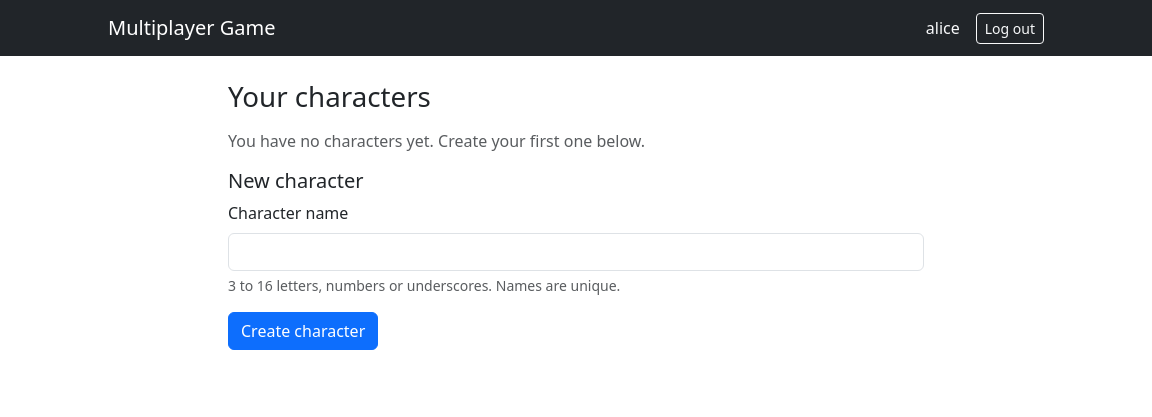
a new character appears in the list without loading the list again
This screenshot has width=1152, height=417.
Type "Aria" into the field labelled "Character name". click: (576, 252)
box: [228, 233, 924, 271]
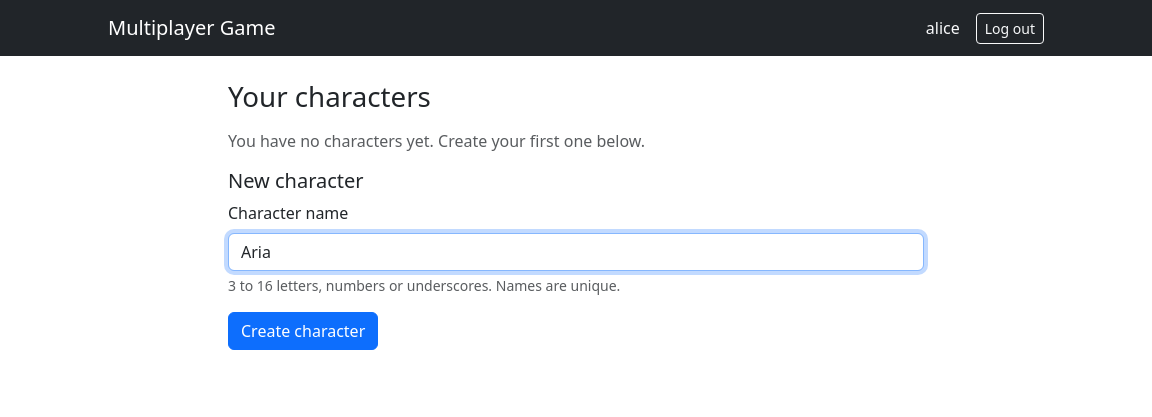
Click the button "Create character". click: click(303, 331)
box: [228, 312, 378, 350]
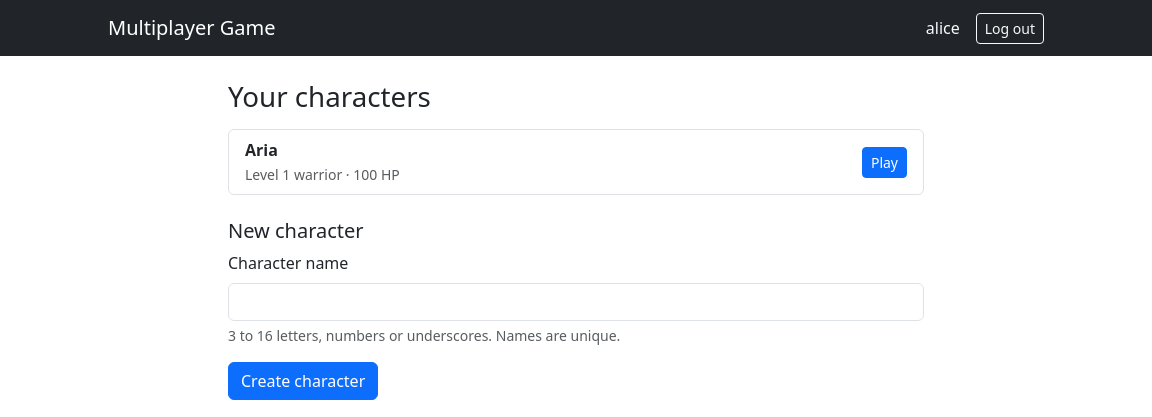
Expected: the text "Aria" is shown, [245, 139, 278, 161]
Expected: the field labelled "Character name" is empty, [228, 283, 924, 321]
